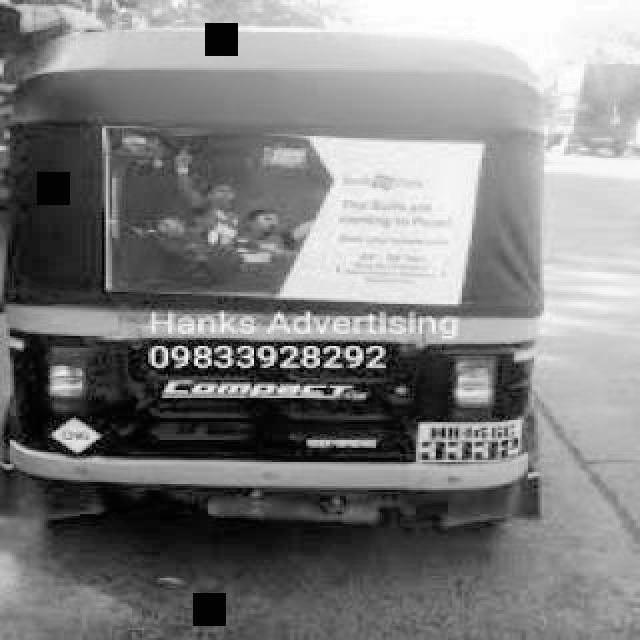Auto-Rickshaw: (2, 14, 530, 560)
